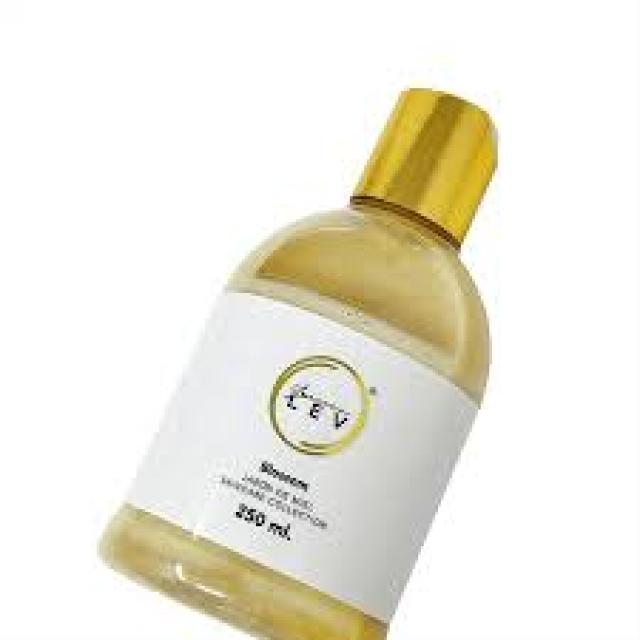Botella: (107, 68, 510, 638)
